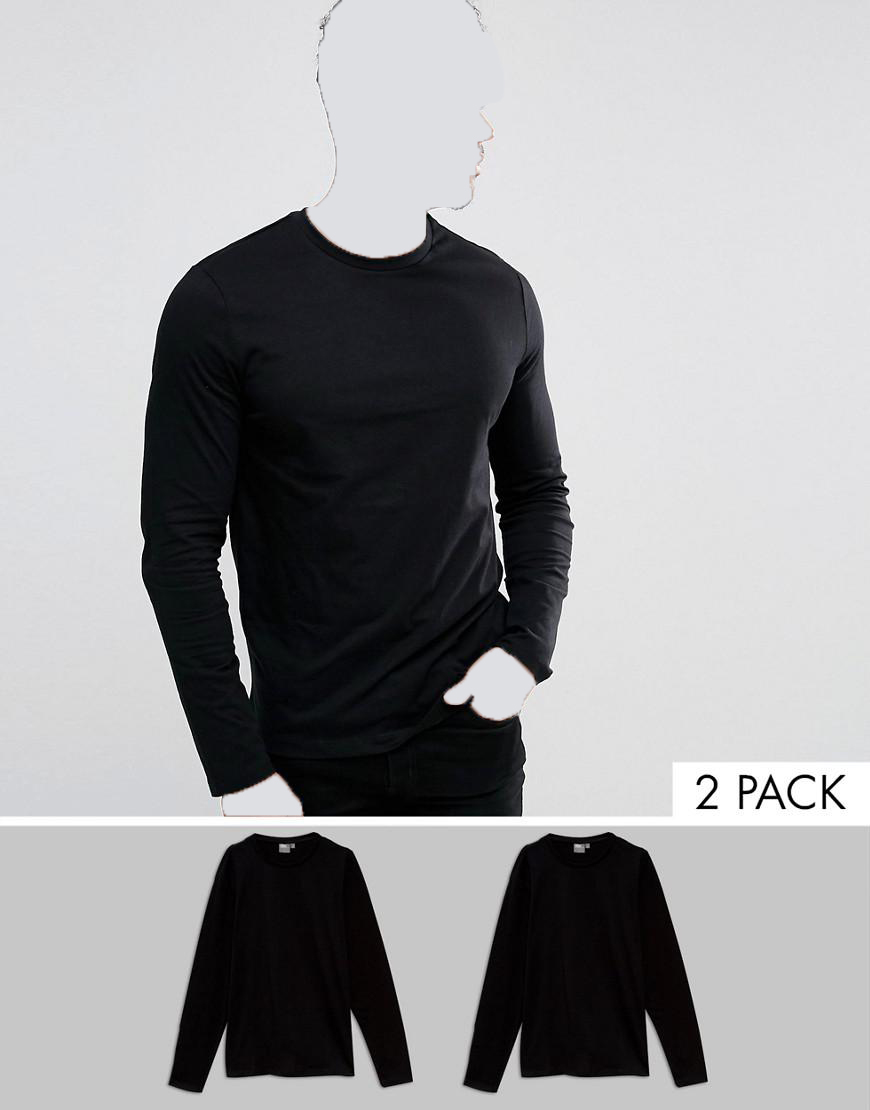teeshirt: (137, 198, 595, 766), (162, 832, 420, 1107), (444, 832, 713, 1095)
